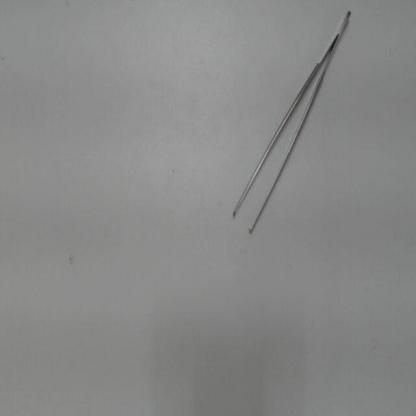Gillies Toothed Dissector: (221, 9, 356, 241)
